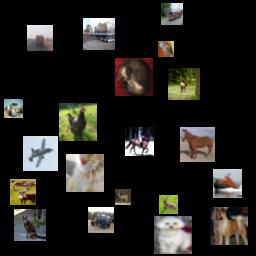airplane: (23, 136, 58, 171)
bird: (59, 103, 97, 141)
cat: (115, 58, 153, 96), (66, 154, 104, 192), (14, 209, 46, 241), (158, 41, 174, 57)
deer: (168, 68, 200, 100), (10, 179, 36, 205), (159, 195, 178, 214), (115, 189, 131, 205)
dog: (210, 207, 248, 245), (154, 216, 192, 254)
ship: (213, 169, 242, 198)
truck: (83, 18, 115, 50), (88, 207, 114, 233), (27, 25, 53, 51), (161, 3, 183, 25), (4, 99, 23, 118)
